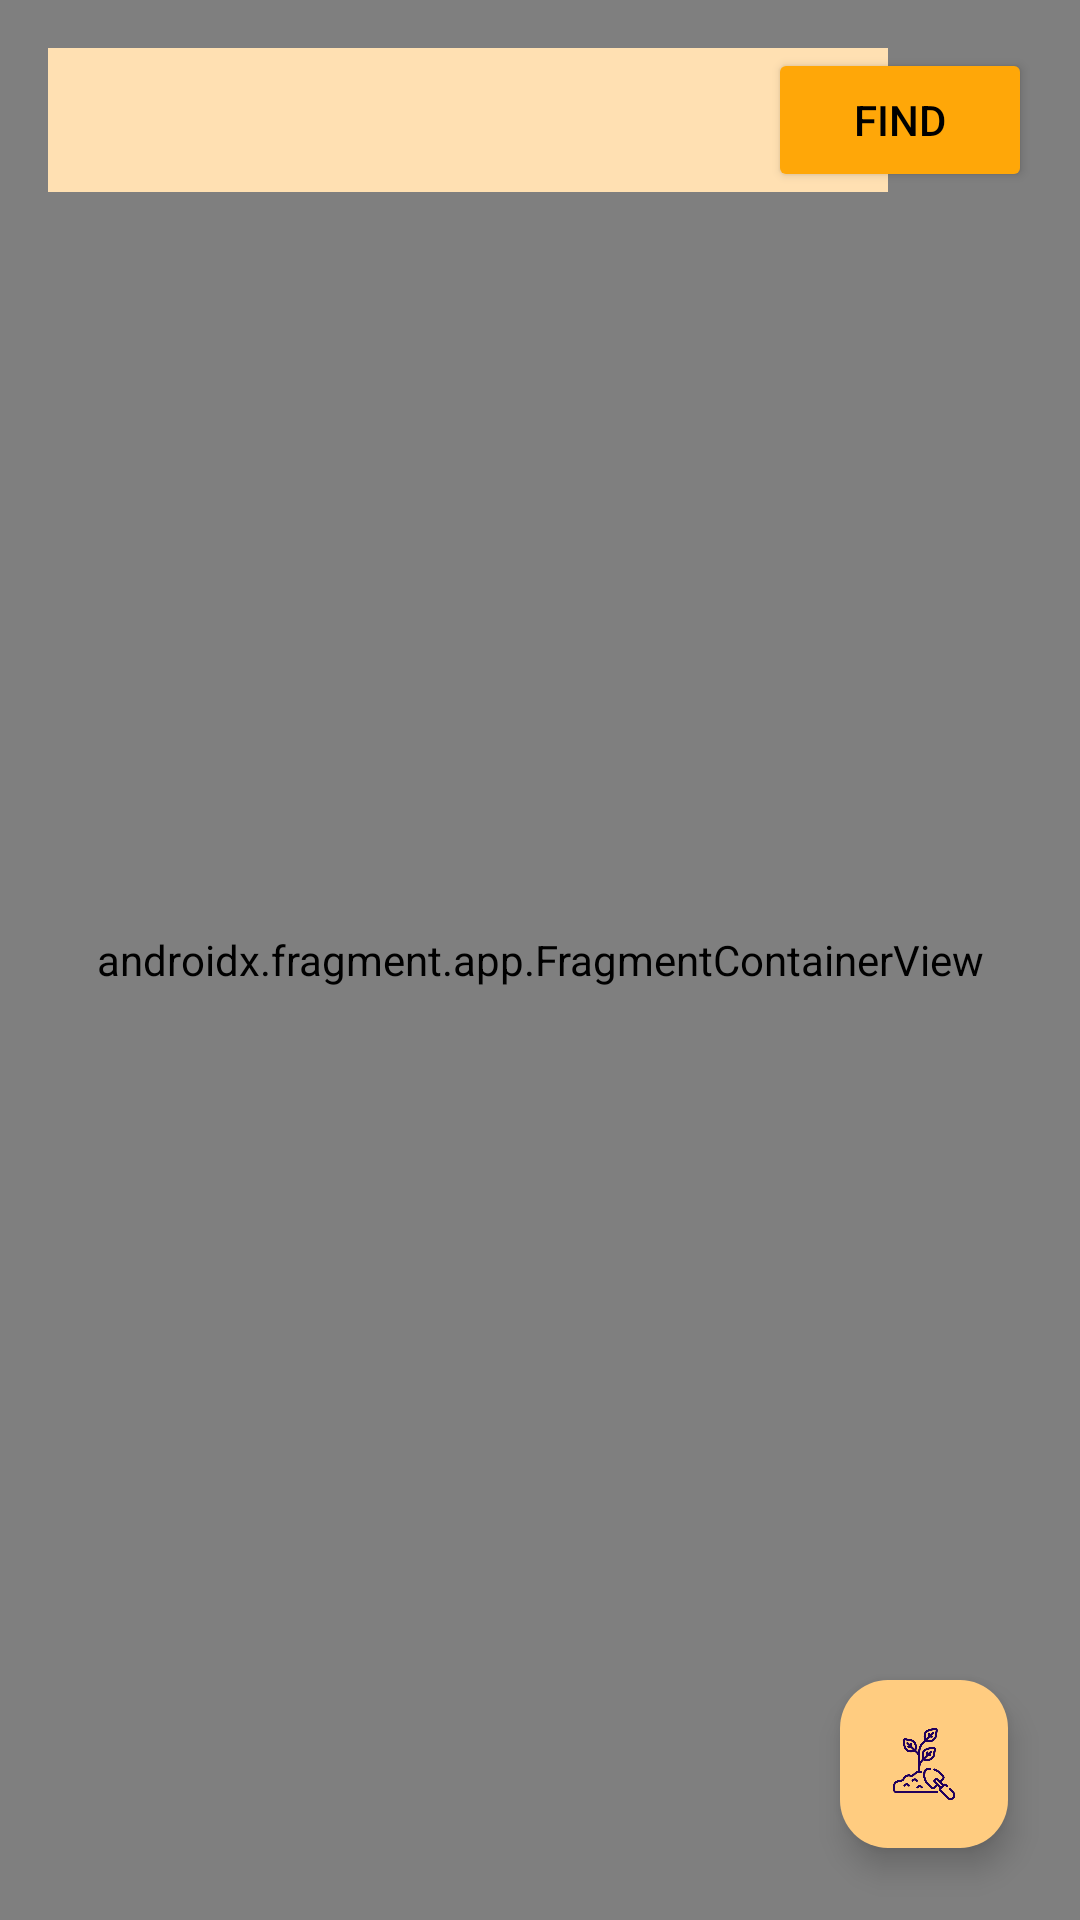

Icon bounding boxes for this 1080w x 1920h phone screenshot, format (x1, y1, x2, y2):
map reforest: (840, 1680, 1008, 1848)
